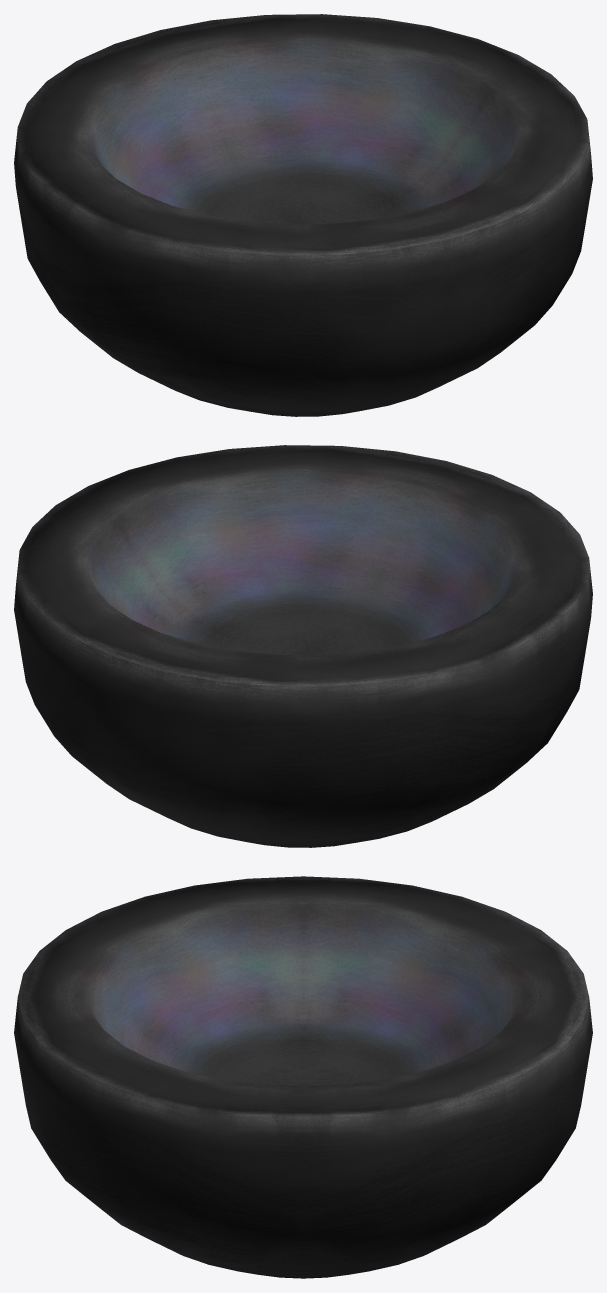
The model's file is pestle.fbx.
3 views of the same model, one above another, from view 1: azimuth 30°, elevation 25°; view 2: azimuth 150°, elevation 25°; view 3: azimuth 270°, elevation 25° (orthographic).
Visible parts, largest first — view 1: pestle; view 2: pestle; view 3: pestle.
Boxes of the visible parts, box(x1,y1,x2,y2) form: pestle: box(14, 14, 592, 416); pestle: box(14, 445, 592, 847); pestle: box(14, 876, 592, 1278).
Bounding box in the file's own units: 25.59 × 12.26 × 25.59.
